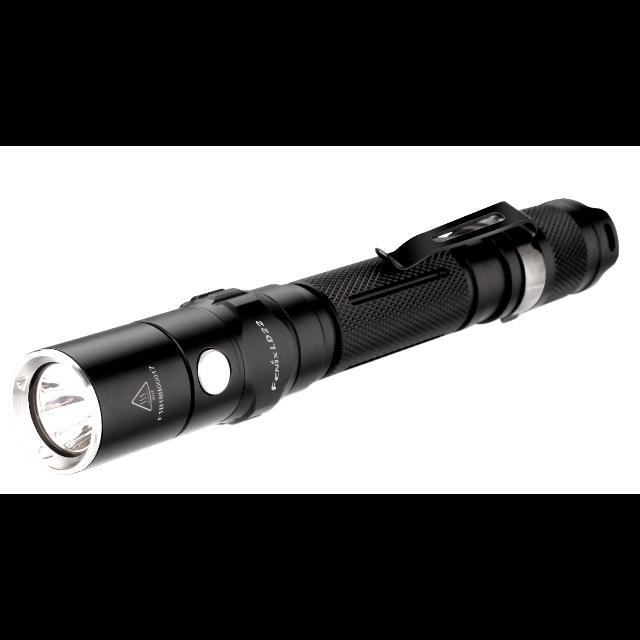Flashlight: (0, 190, 628, 484)
